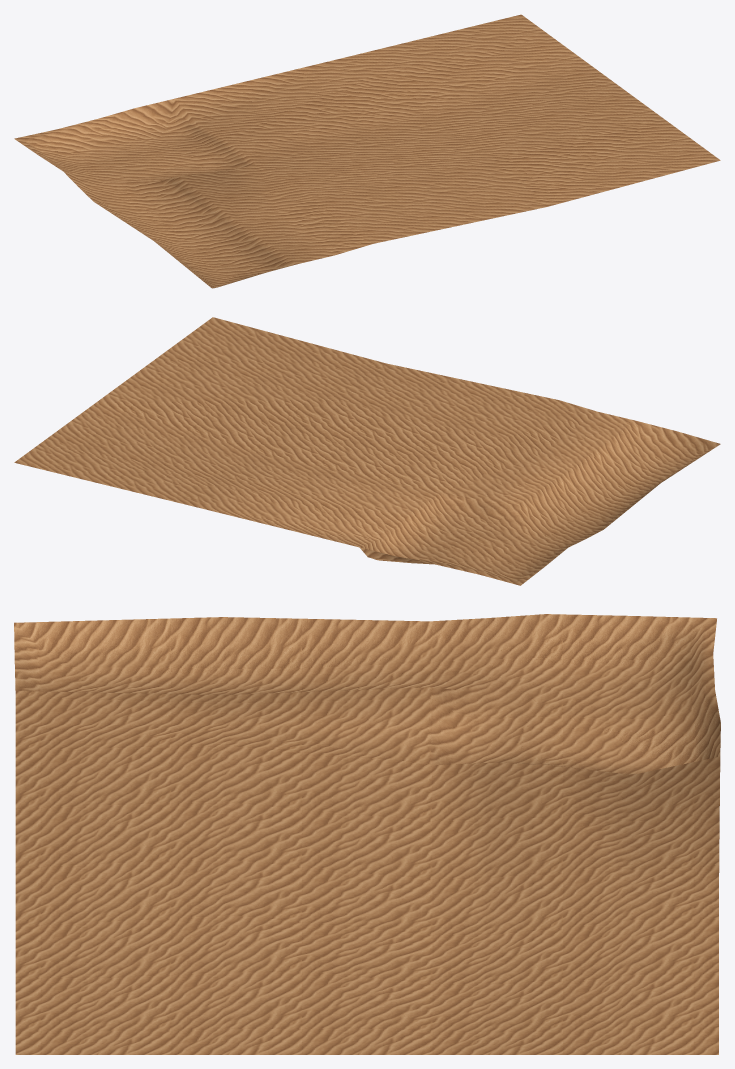
The model's file is SandB10.fbx.
The picture shows the model from 3 angles, top to bottom: view 1: azimuth 30°, elevation 25°; view 2: azimuth 150°, elevation 25°; view 3: azimuth 270°, elevation 25°; orthographic projection. The views are drawn at different scales.
Visible parts, largest first — view 1: ConstructionSand; view 2: ConstructionSand; view 3: ConstructionSand.
Part boxes in pixels (x1,y1,x2,y2): ConstructionSand: (14, 14, 720, 288); ConstructionSand: (14, 317, 720, 585); ConstructionSand: (14, 614, 720, 1054).
Size of the model in its own units: 11.32 by 0.4658 by 7.71.
Materials: 1 (1 with a texture image).
